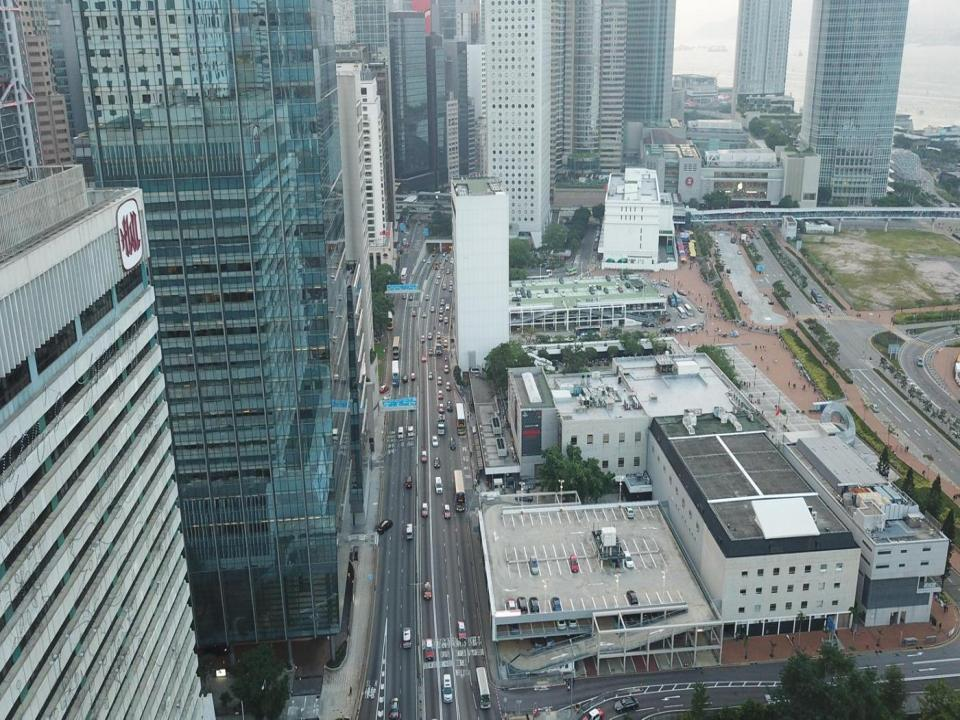bus: (475, 667, 491, 708), (453, 470, 464, 512), (455, 403, 465, 435), (574, 326, 601, 335), (392, 359, 399, 387), (392, 335, 400, 359), (811, 289, 822, 305), (385, 310, 393, 330), (949, 203, 960, 214), (400, 267, 408, 282), (673, 292, 681, 302), (544, 269, 552, 276), (954, 164, 960, 169), (402, 238, 406, 245)
car: (614, 695, 638, 714), (580, 707, 604, 719), (389, 697, 399, 719), (378, 520, 393, 534), (402, 627, 412, 648), (626, 589, 638, 604), (426, 637, 434, 659), (517, 597, 527, 614), (529, 597, 539, 614), (623, 550, 633, 567), (458, 620, 466, 640), (532, 634, 541, 651), (530, 555, 538, 574), (423, 582, 431, 600), (546, 633, 555, 649), (570, 555, 578, 573), (555, 616, 566, 629), (624, 505, 634, 519), (551, 597, 561, 611), (627, 612, 637, 626), (507, 598, 516, 612), (568, 615, 577, 629), (444, 503, 450, 519), (650, 610, 658, 622), (511, 620, 518, 633), (618, 616, 625, 628), (379, 385, 389, 393), (406, 475, 412, 488), (422, 503, 428, 516), (564, 335, 575, 342), (432, 435, 438, 447), (870, 404, 878, 413), (578, 333, 588, 340), (446, 400, 452, 411), (450, 437, 455, 450), (434, 457, 440, 467), (421, 450, 426, 462), (641, 612, 647, 622), (916, 356, 922, 366), (606, 331, 615, 337), (446, 382, 451, 392), (436, 376, 442, 384), (439, 403, 444, 412), (820, 304, 826, 311), (421, 354, 426, 362), (409, 402, 414, 410), (438, 390, 442, 400), (638, 334, 646, 339), (646, 322, 654, 327), (698, 306, 704, 312), (678, 290, 685, 295), (827, 303, 832, 310), (420, 334, 424, 342), (428, 371, 432, 379), (444, 364, 448, 372), (444, 339, 448, 347), (444, 316, 448, 324), (374, 339, 380, 344), (521, 291, 526, 297), (596, 283, 601, 289), (641, 321, 647, 326), (402, 375, 406, 382), (446, 303, 450, 310), (590, 287, 594, 294), (618, 285, 622, 292), (620, 274, 624, 281), (634, 285, 638, 292), (573, 286, 578, 291), (422, 312, 426, 318), (440, 299, 444, 305), (428, 333, 432, 339), (516, 324, 520, 330), (550, 323, 554, 329), (531, 280, 535, 286), (521, 280, 525, 286), (516, 302, 520, 308), (446, 269, 450, 275), (604, 287, 608, 293), (606, 275, 610, 281), (625, 274, 629, 280), (626, 282, 630, 288), (592, 298, 596, 304), (639, 273, 643, 279), (737, 249, 741, 255), (439, 314, 442, 321), (437, 331, 440, 338), (429, 348, 432, 355), (411, 373, 414, 380), (517, 291, 520, 298), (560, 277, 563, 284), (437, 273, 441, 278), (435, 279, 439, 284), (425, 294, 429, 299), (412, 310, 416, 315), (442, 284, 446, 289), (448, 286, 452, 291), (554, 286, 558, 291), (561, 291, 565, 296), (592, 284, 596, 289), (576, 299, 580, 304), (596, 297, 600, 302), (398, 250, 404, 253), (431, 306, 434, 312), (537, 291, 540, 297), (588, 284, 591, 290), (544, 288, 548, 292), (520, 287, 524, 291), (594, 237, 598, 241), (586, 299, 590, 303), (746, 237, 750, 241), (427, 213, 432, 216), (409, 295, 412, 300), (515, 288, 518, 293), (596, 233, 599, 238), (597, 225, 600, 230), (756, 234, 759, 239), (737, 291, 742, 294), (418, 218, 420, 225), (406, 243, 409, 247), (428, 259, 431, 263), (441, 265, 444, 269), (439, 308, 442, 312), (449, 281, 453, 284), (509, 280, 511, 286), (445, 256, 448, 260), (746, 228, 750, 231), (722, 260, 725, 264), (727, 268, 730, 272), (443, 252, 445, 257), (597, 229, 599, 234), (616, 275, 618, 280), (754, 231, 756, 236), (749, 230, 751, 235), (719, 252, 721, 257), (438, 259, 441, 262), (444, 250, 447, 253), (750, 234, 753, 237), (751, 228, 754, 231), (408, 223, 410, 227), (433, 252, 435, 256), (423, 258, 425, 262), (403, 294, 405, 298), (451, 258, 453, 262), (594, 246, 596, 250), (434, 246, 436, 249)
truck: (437, 414, 444, 434), (668, 295, 676, 307), (436, 340, 442, 354), (740, 294, 748, 304)
van: (442, 674, 454, 703), (515, 490, 532, 502), (435, 476, 443, 493), (660, 326, 674, 334), (677, 306, 686, 318), (406, 523, 413, 538), (684, 303, 692, 316), (566, 267, 576, 276), (539, 335, 551, 342), (688, 322, 698, 330), (675, 326, 686, 333), (661, 279, 669, 287), (398, 426, 403, 438), (408, 425, 413, 437), (590, 333, 601, 338), (434, 261, 440, 269), (512, 296, 520, 302), (699, 318, 703, 327), (528, 290, 532, 298), (573, 277, 578, 283), (632, 303, 636, 310), (615, 282, 619, 288), (651, 280, 657, 284), (637, 304, 640, 311), (659, 294, 663, 299), (641, 286, 645, 291), (936, 167, 939, 172), (714, 241, 718, 244), (797, 228, 799, 233), (717, 248, 720, 251), (924, 178, 926, 182)
